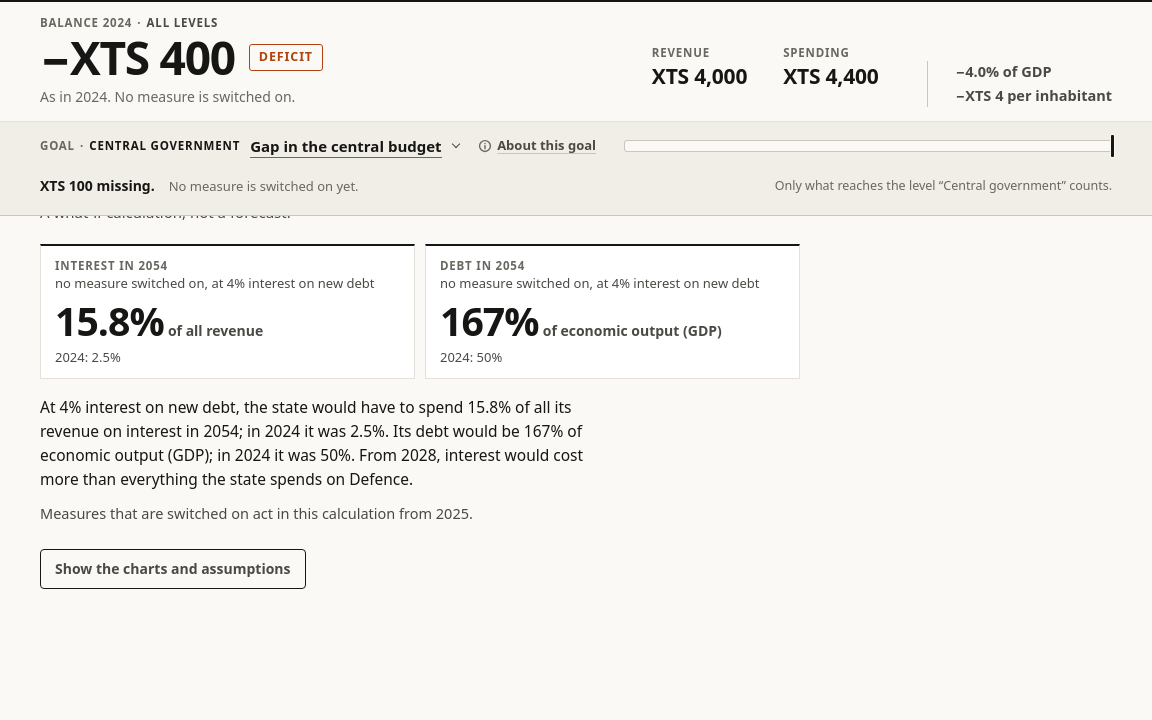
it: before its code has arrived › says so when it cannot be loaded, and tries again on request
Later steps or results of the test are not shown.
(page scrolled)
Click the button "Show the charts and assumptions": (173, 569) top-left (40, 549), bottom-right (306, 589)
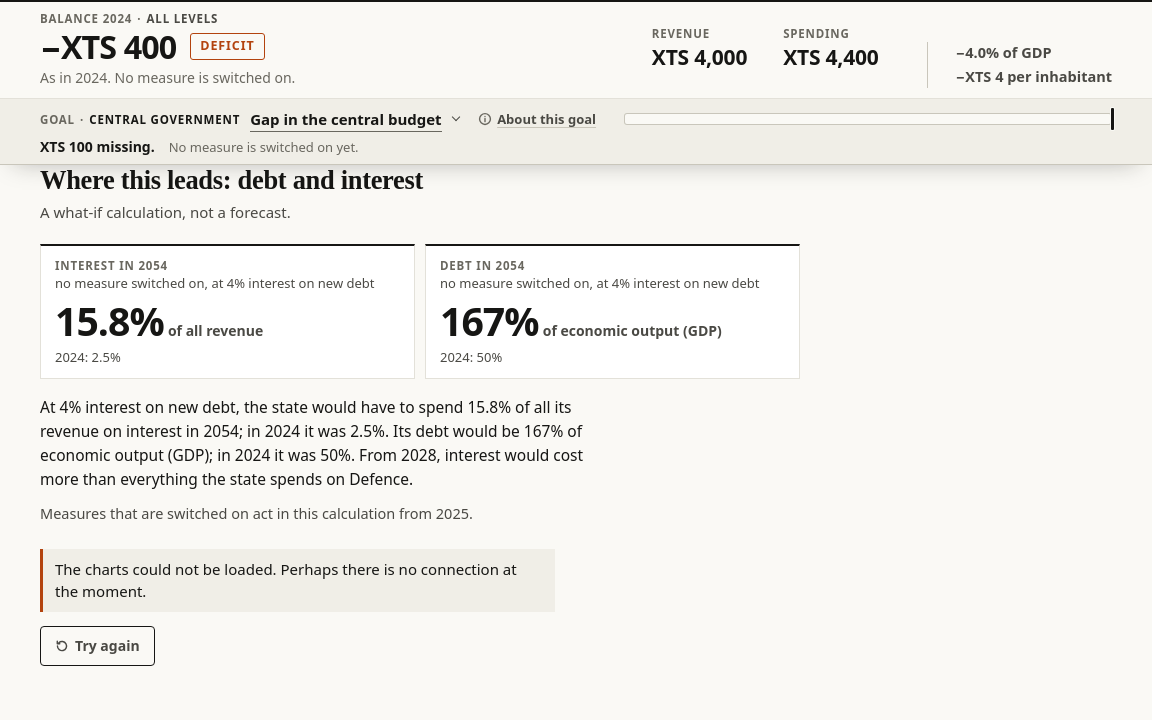
Check: the text "The charts could not be loaded. Perhaps there is no connection at the moment." is shown, box top-left (40, 549), bottom-right (555, 612)
